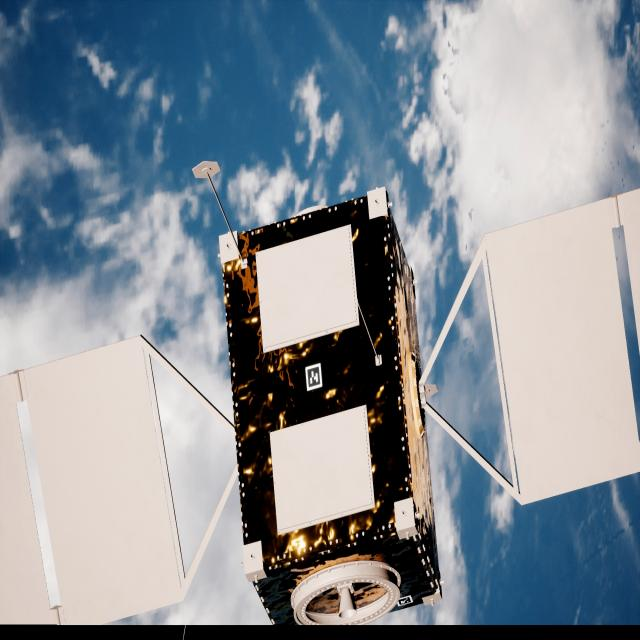medium_debris: (0, 189, 640, 627)
